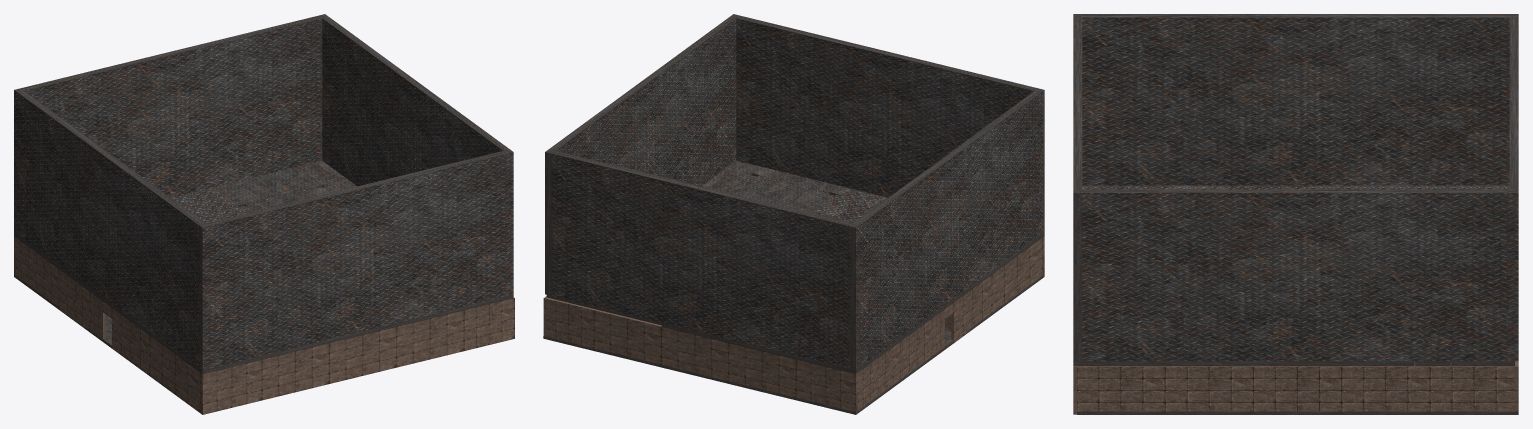
The model's file is Circus3.0.fbx.
3 views of the same model, side by side, from view 1: azimuth 30°, elevation 25°; view 2: azimuth 150°, elevation 25°; view 3: azimuth 270°, elevation 25° (orthographic). The views are drawn at different scales.
Visible parts, largest first — view 1: ceiling, cube_9, cube_87, cube_30, cube_1, cube_88, cube, cube_61, cube_34, cube_62, cube_39, cube_63; view 2: ceiling, cube_78, cube_28, cube_29, cube_27, cube_79, cube, cube_61, cube_34, cube_62, cube_63, cube_39; view 3: ceiling, cube_85, cube_32, cube_33, cube_51, cube_86.
Part boxes in pixels (<box>): ceiling: <box>14,14,513,374</box>; cube_9: <box>262,343,329,400</box>; cube_87: <box>397,310,464,367</box>; cube_30: <box>329,327,396,383</box>; cube_1: <box>201,360,262,414</box>; cube_88: <box>464,297,514,350</box>; cube: <box>150,336,200,412</box>; cube_61: <box>112,308,150,375</box>; cube_34: <box>60,270,90,329</box>; cube_62: <box>29,247,58,309</box>; cube_39: <box>90,292,105,340</box>; cube_63: <box>14,237,28,286</box>; ceiling: <box>545,14,1044,374</box>; cube_78: <box>594,309,661,364</box>; cube_28: <box>729,343,796,399</box>; cube_29: <box>661,327,728,383</box>; cube_27: <box>796,360,857,414</box>; cube_79: <box>543,297,595,350</box>; cube: <box>992,237,1042,311</box>; cube_61: <box>951,275,992,342</box>; cube_34: <box>902,319,932,377</box>; cube_62: <box>871,341,900,402</box>; cube_63: <box>853,363,870,413</box>; cube_39: <box>932,309,944,355</box>; ceiling: <box>1073,14,1518,365</box>; cube_85: <box>1342,365,1430,411</box>; cube_32: <box>1165,366,1253,411</box>; cube_33: <box>1253,366,1341,411</box>; cube_51: <box>1077,366,1165,411</box>; cube_86: <box>1430,365,1518,411</box>.
Bounding box in the file's own units: 94.24 × 53.91 × 98.44.
Materials: 9 (9 with a texture image).
